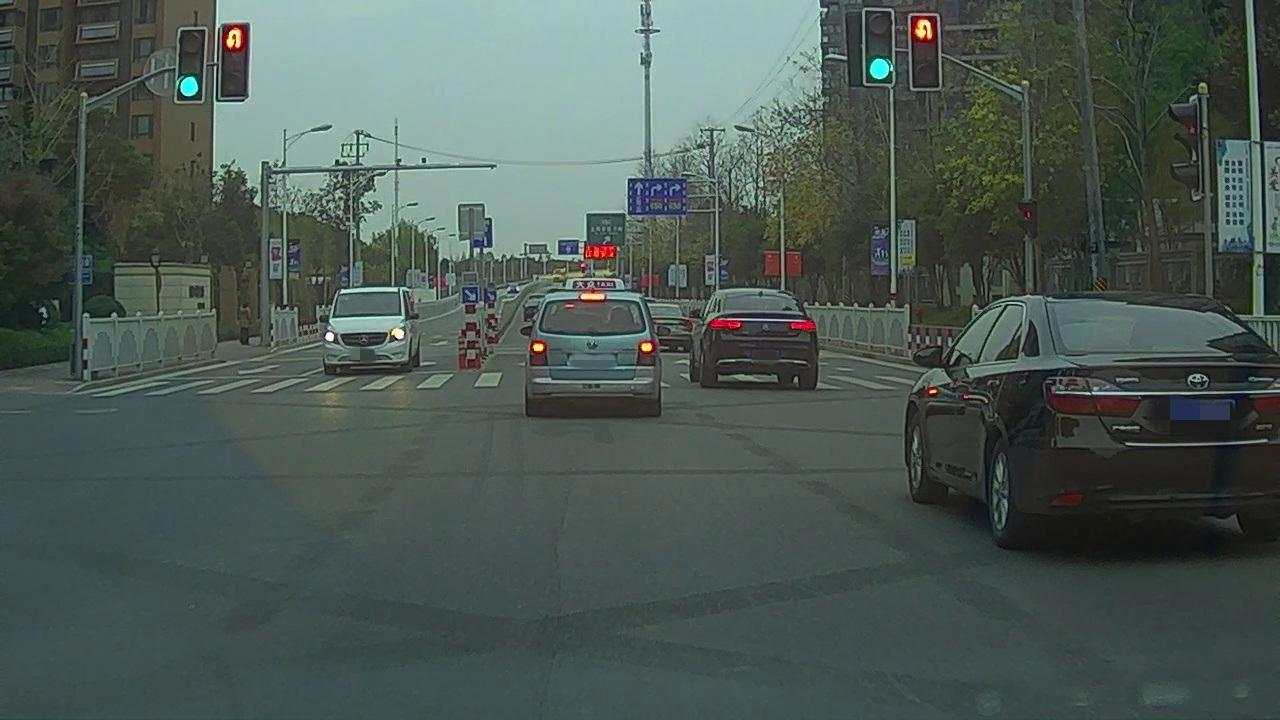traffic_light: (911, 15, 940, 88), (865, 10, 893, 85), (222, 24, 246, 97), (180, 31, 202, 101)
